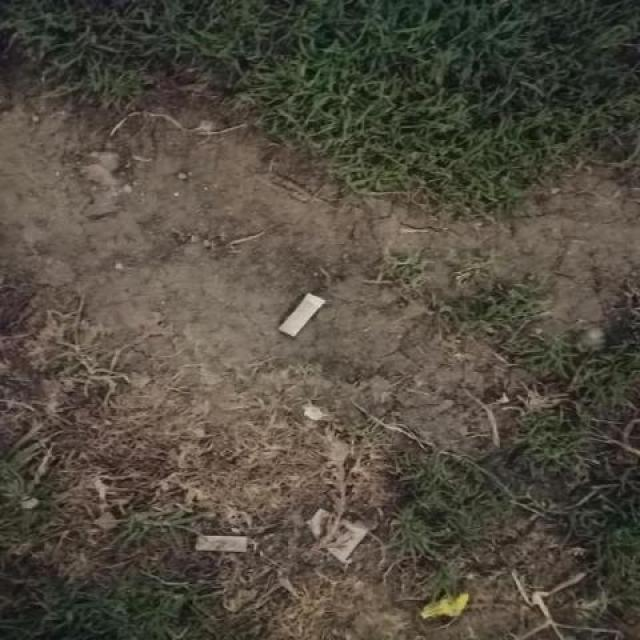non-organic waste: (272, 286, 329, 341)
